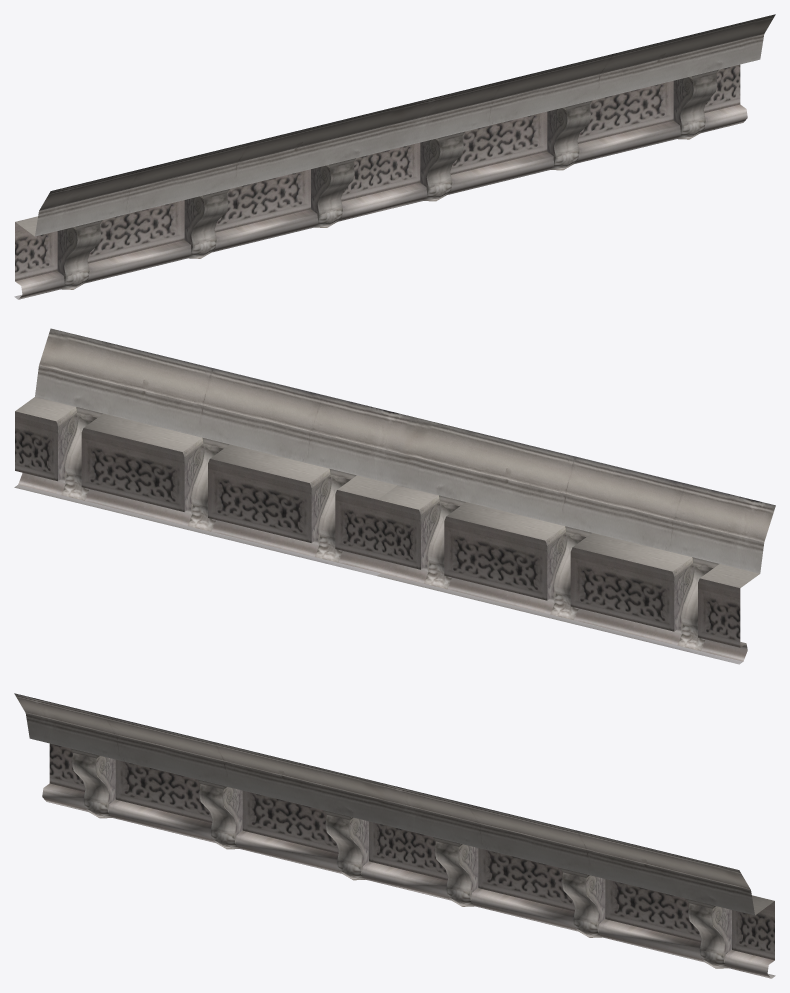
Rendered from WallRoofline2C.fbx.
3 renders of one model, top to bottom at view 1: azimuth 30°, elevation 25°; view 2: azimuth 150°, elevation 25°; view 3: azimuth 330°, elevation 25°, orthographic.
Parts seen in each view (by area): view 1: WallRoofline2C; view 2: WallRoofline2C; view 3: WallRoofline2C.
Boxes of the visible parts, x1,y1,x2,y2 form: WallRoofline2C: (14,14,775,299); WallRoofline2C: (14,328,775,664); WallRoofline2C: (14,693,775,978).
Bounding box in the file's own units: 400 × 71.18 × 35.
